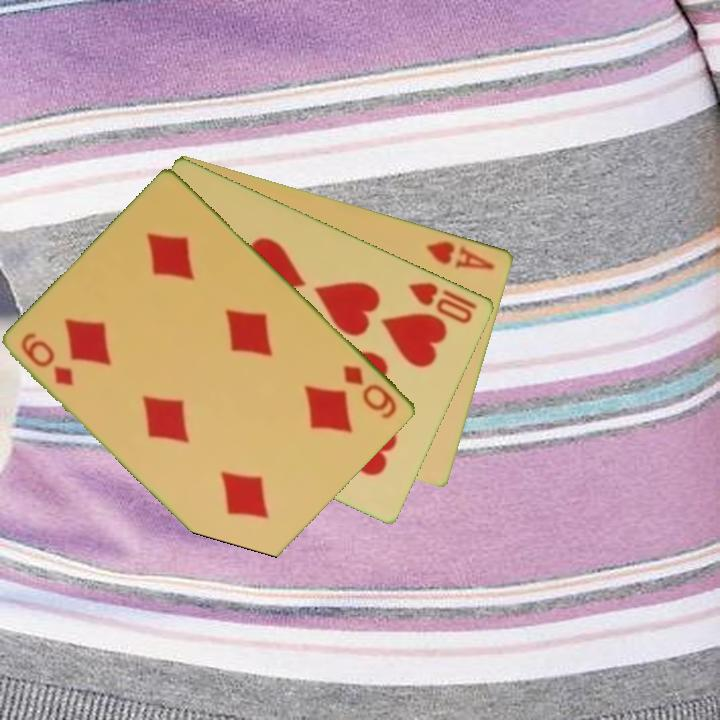10h: (405, 278, 476, 327)
6d: (340, 361, 400, 422), (18, 329, 78, 389)
Ah: (423, 237, 498, 273)
